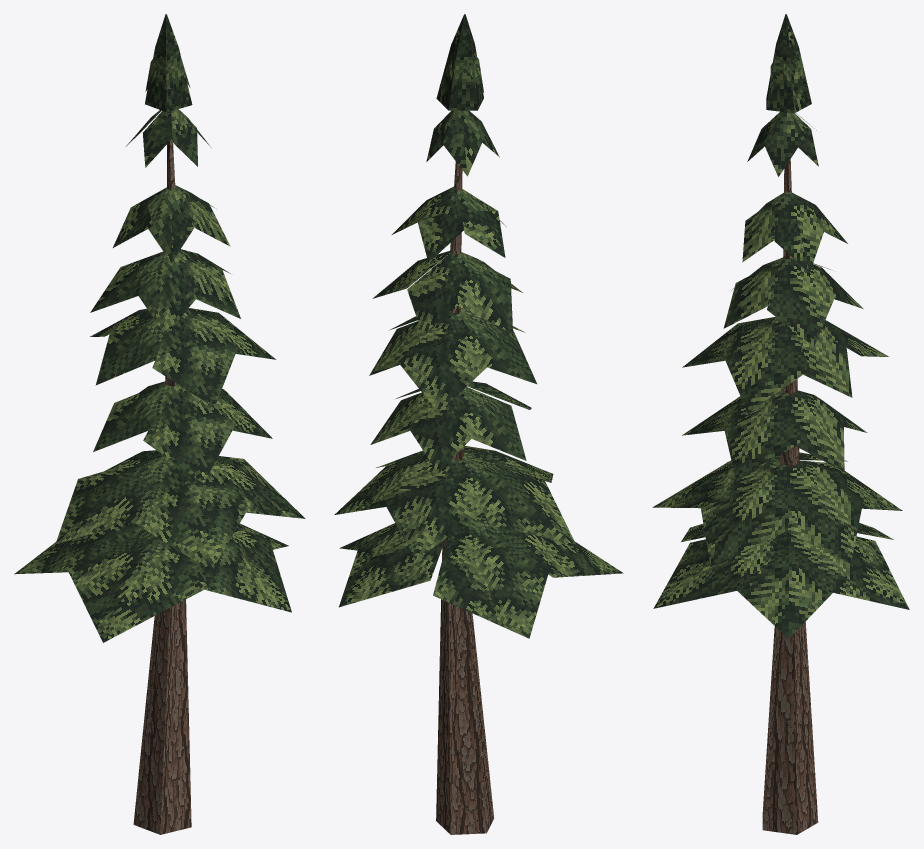
The model's file is TREE_Pine_B_LOD2.glb.
3 renders of one model, left to right at view 1: azimuth 30°, elevation 25°; view 2: azimuth 150°, elevation 25°; view 3: azimuth 270°, elevation 25°, orthographic.
Parts seen in each view (by area): view 1: TREE_Pine_B_LOD2__Foliage, TREE_Pine_B_LOD2__Bark; view 2: TREE_Pine_B_LOD2__Foliage, TREE_Pine_B_LOD2__Bark; view 3: TREE_Pine_B_LOD2__Foliage, TREE_Pine_B_LOD2__Bark.
Part boxes in pixels (left/top/right/bottom): TREE_Pine_B_LOD2__Foliage: left=14, top=14, right=305, bottom=642; TREE_Pine_B_LOD2__Bark: left=133, top=139, right=191, bottom=834; TREE_Pine_B_LOD2__Foliage: left=334, top=14, right=623, bottom=638; TREE_Pine_B_LOD2__Bark: left=436, top=161, right=494, bottom=834; TREE_Pine_B_LOD2__Foliage: left=652, top=14, right=909, bottom=638; TREE_Pine_B_LOD2__Bark: left=762, top=159, right=818, bottom=834.
Bounding box in the file's own units: 4.53 × 14.85 × 4.29.
2 materials, 2 textured.
